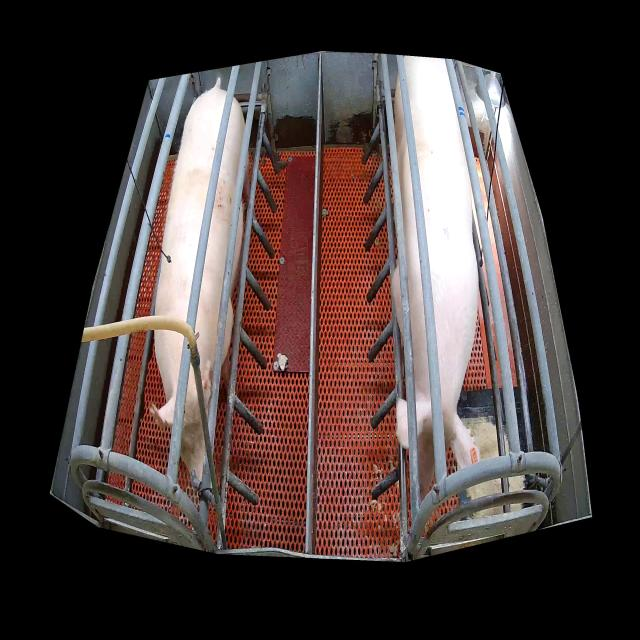pig: (150, 88, 250, 482), (393, 57, 480, 502)
